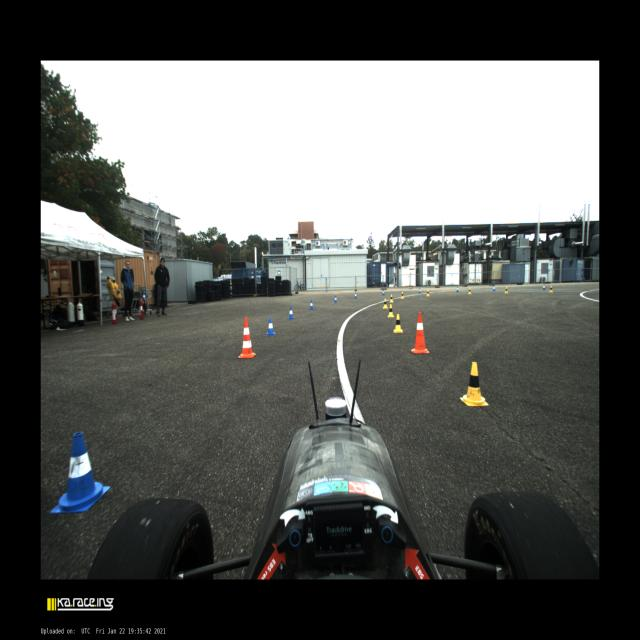blue_cone: (50, 432, 111, 516), (266, 318, 276, 335), (288, 307, 295, 320), (309, 300, 314, 310), (333, 295, 338, 303), (418, 287, 422, 295), (492, 284, 496, 292), (542, 283, 546, 291), (354, 292, 358, 299), (456, 285, 460, 292), (382, 289, 385, 296)
large_orange_cone: (411, 312, 429, 354), (238, 317, 256, 359)
yellow_cone: (460, 362, 489, 406), (394, 314, 404, 333), (388, 304, 394, 318), (382, 298, 388, 309), (389, 294, 394, 303), (504, 286, 509, 294), (400, 292, 405, 300), (549, 286, 553, 294), (426, 289, 430, 297), (467, 288, 472, 294)
